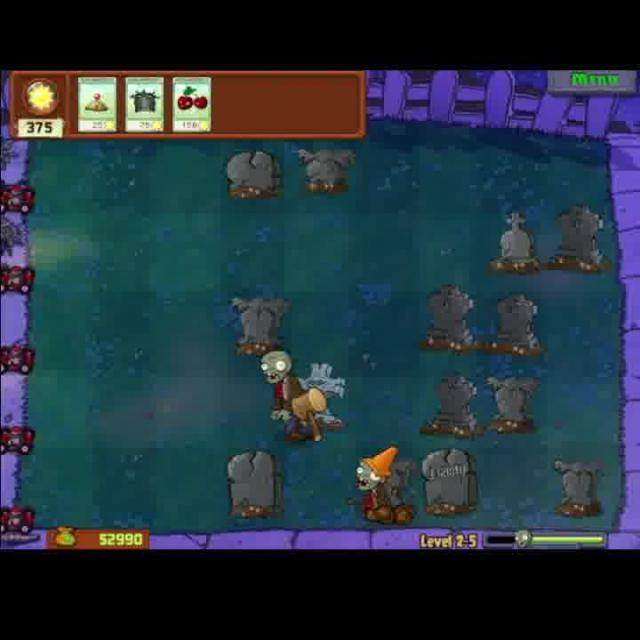zombies: (254, 344, 319, 452), (346, 438, 404, 530)
